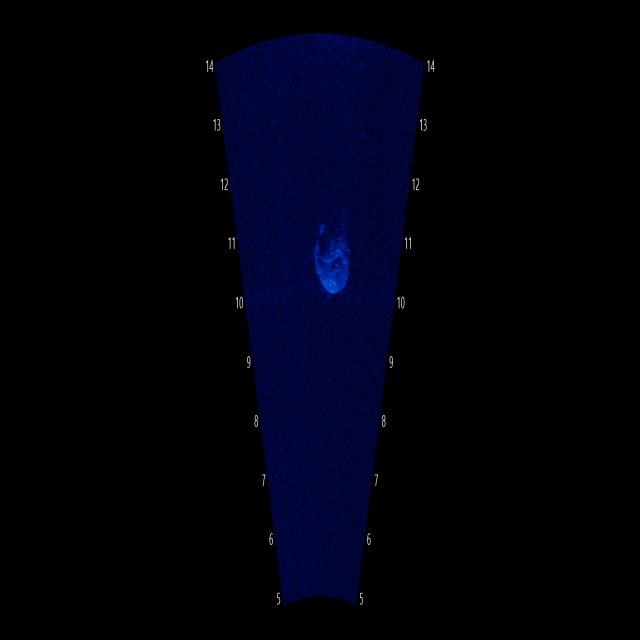circle: (308, 191, 363, 314)
